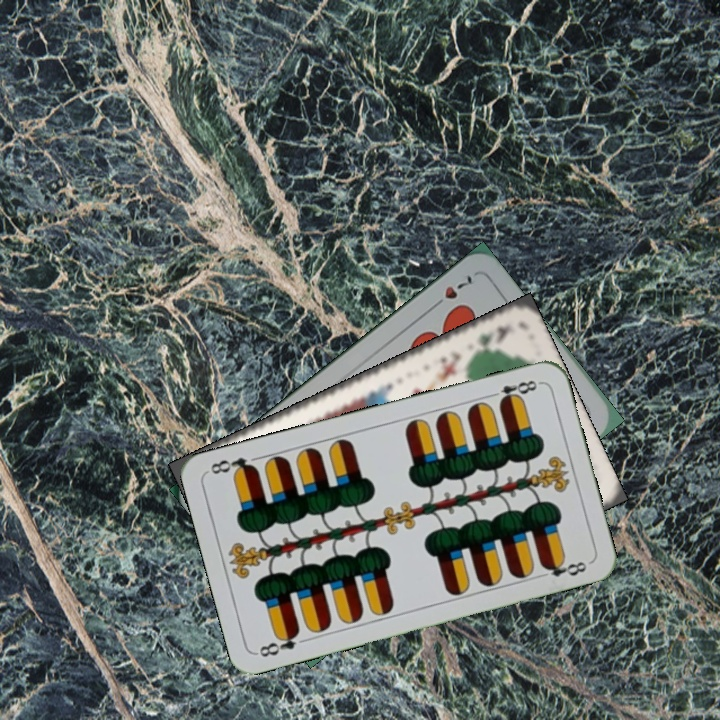E8: (484, 376, 543, 407), (255, 626, 302, 660)
GK: (466, 321, 514, 359)
H7: (427, 271, 475, 312)
